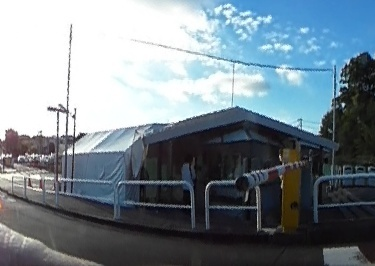person: (181, 151, 196, 212)
